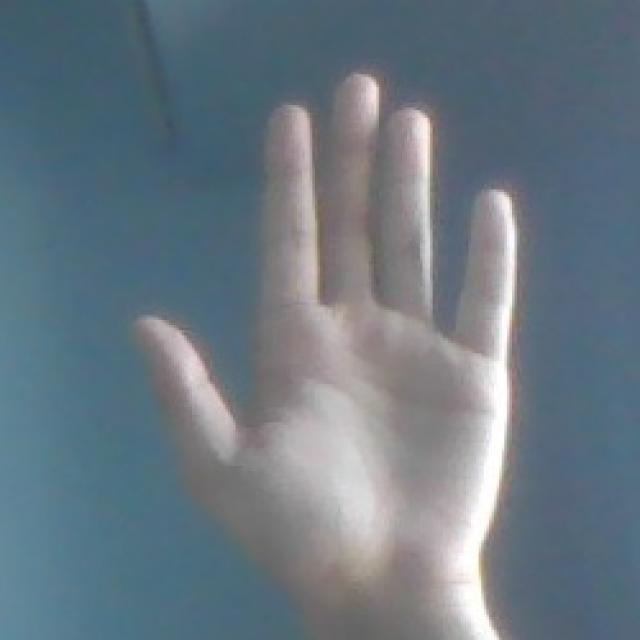Numeric-5: (131, 69, 524, 600)
